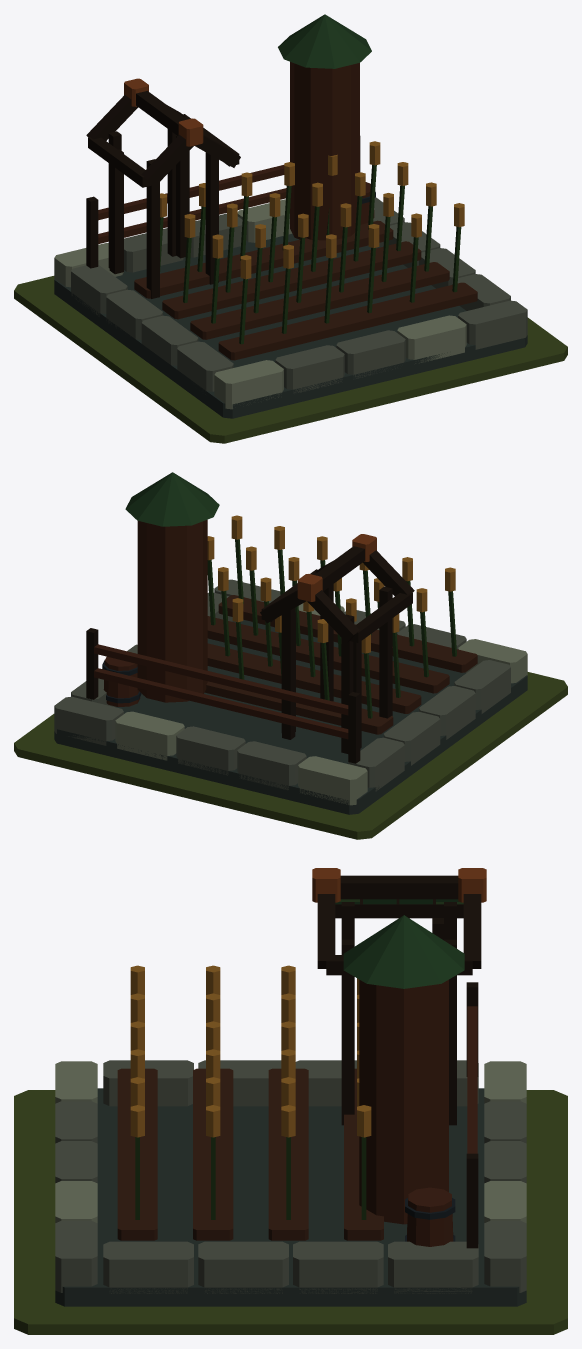
The model's file is farm_t6.glb.
The picture shows the model from 3 angles, top to bottom: view 1: azimuth 30°, elevation 25°; view 2: azimuth 150°, elevation 25°; view 3: azimuth 270°, elevation 25°; orthographic projection. The views are drawn at different scales.
Visible parts, largest first — view 1: MMR | farm | T06 Architecture.001, MMR | farm | Tier 06 Ground.001, MMR | farm | T06 Shelter Supports.001; view 2: MMR | farm | T06 Architecture.001, MMR | farm | Tier 06 Ground.001, MMR | farm | T06 Shelter Supports.001; view 3: MMR | farm | T06 Architecture.001, MMR | farm | Tier 06 Ground.001, MMR | farm | T06 Shelter Supports.001.
Boxes of the visible parts, x1,y1,x2,y2 form: MMR | farm | T06 Architecture.001: (54, 14, 527, 418); MMR | farm | Tier 06 Ground.001: (14, 276, 567, 443); MMR | farm | T06 Shelter Supports.001: (108, 129, 218, 298); MMR | farm | T06 Architecture.001: (54, 472, 527, 814); MMR | farm | Tier 06 Ground.001: (14, 672, 567, 839); MMR | farm | T06 Shelter Supports.001: (282, 584, 392, 753); MMR | farm | T06 Architecture.001: (55, 868, 526, 1306); MMR | farm | Tier 06 Ground.001: (14, 1090, 567, 1334); MMR | farm | T06 Shelter Supports.001: (341, 902, 456, 1125).
Size of the model in its own units: 2.35 by 1.65 by 2.35.
Materials: 1 (1 with a texture image).
